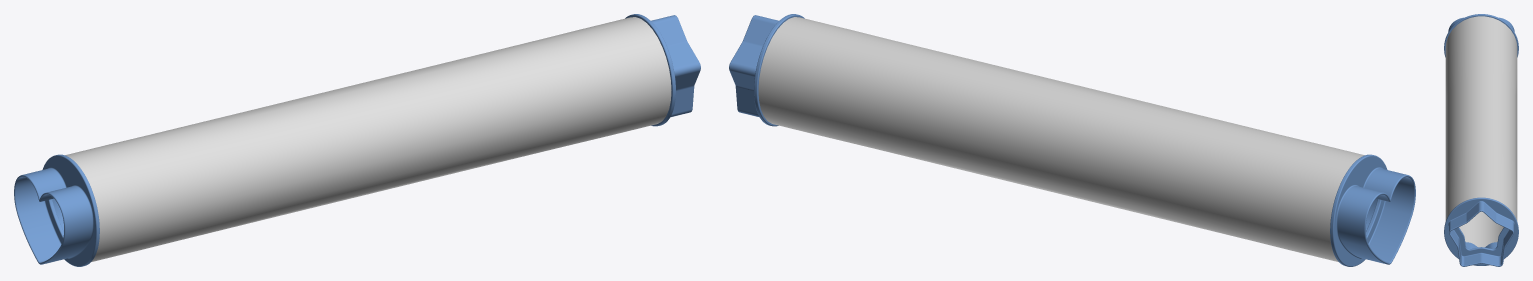
Rendered from rolling-pin.glb.
3 renders of one model, left to right at view 1: azimuth 30°, elevation 25°; view 2: azimuth 150°, elevation 25°; view 3: azimuth 270°, elevation 25°, orthographic. The views are drawn at different scales.
Parts seen in each view (by area): view 1: Layer 01; view 2: Layer 01; view 3: Layer 01.
Boxes of the visible parts, x1,y1,x2,y2 form: Layer 01: (14,14,700,266); Layer 01: (729,14,1415,266); Layer 01: (1444,14,1518,266).
Bounding box in the file's own units: 0.334 × 0.052 × 0.052.
